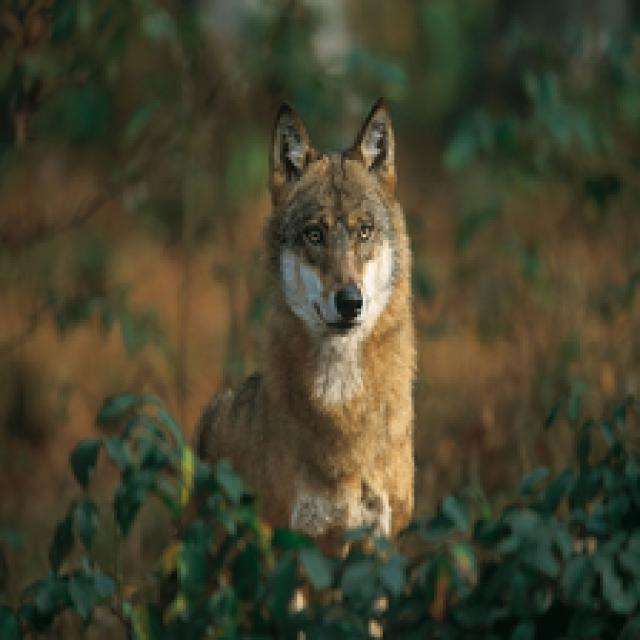wolf: (221, 101, 435, 557)
